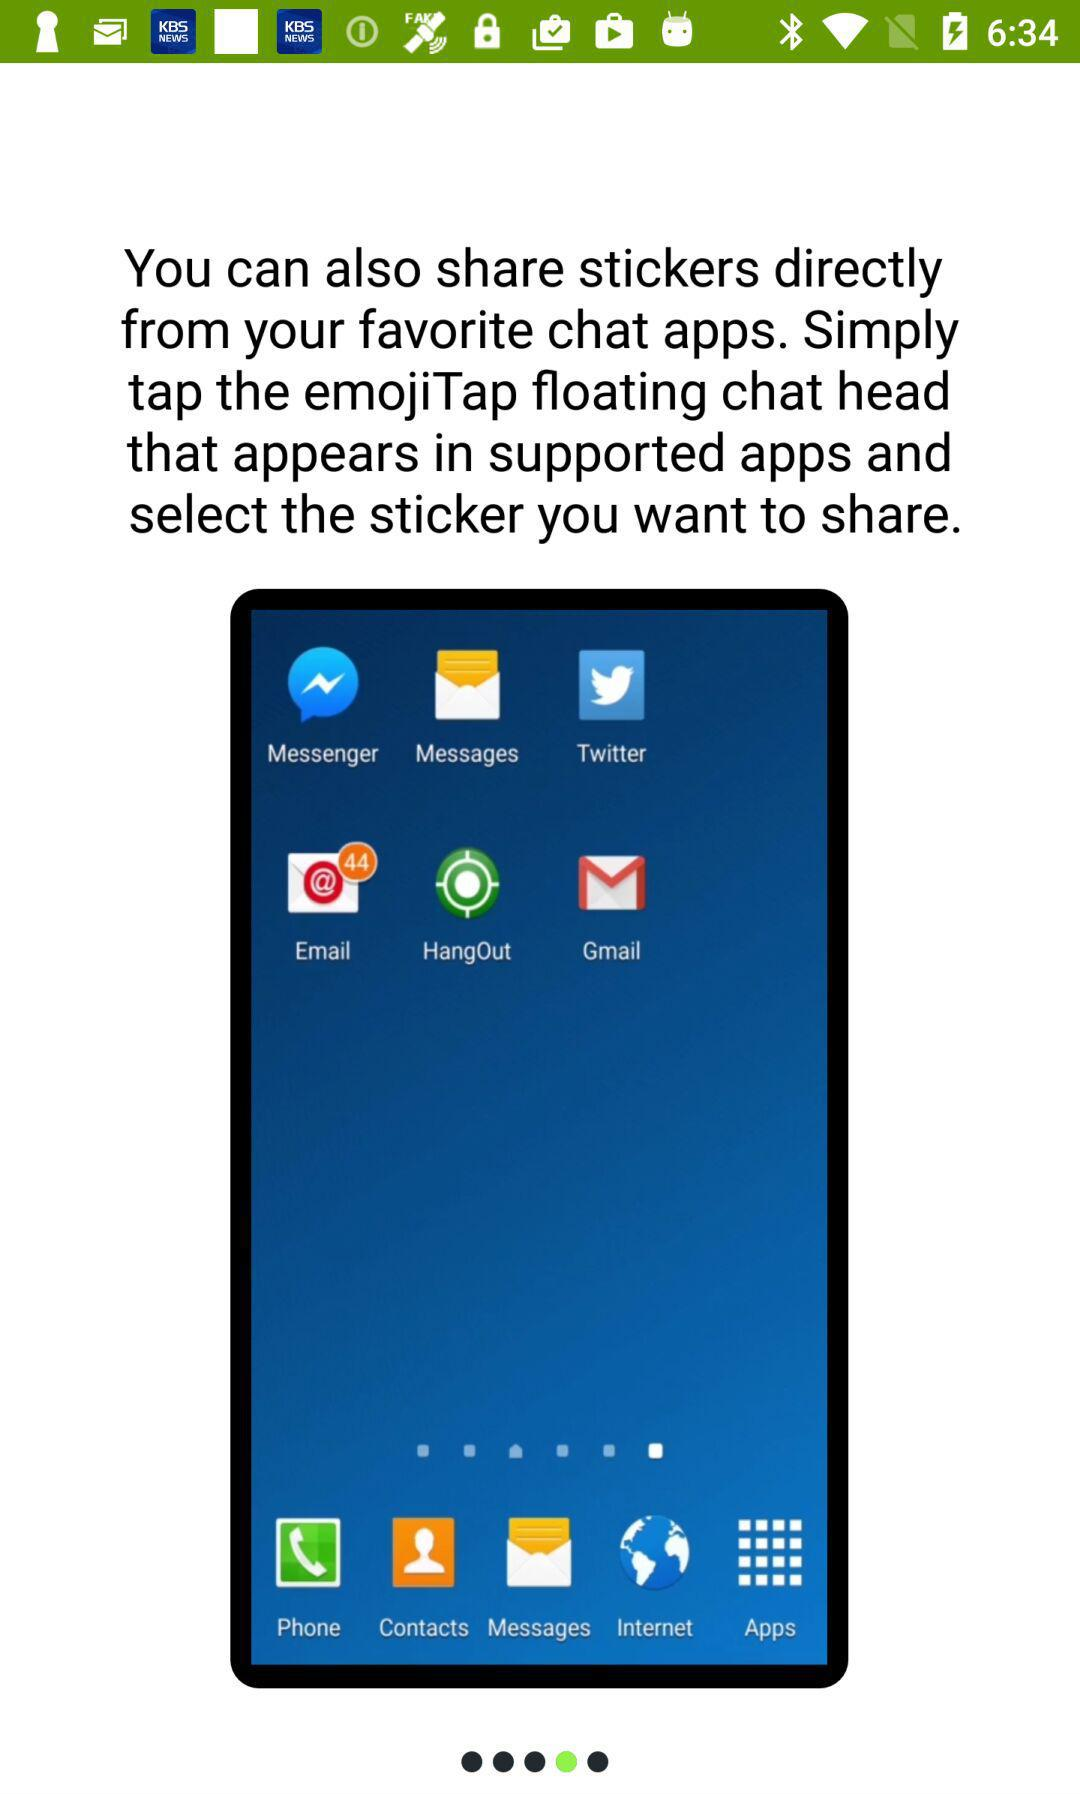Image: (228, 589, 849, 1690)
PageIndicator: (460, 1750, 610, 1773)
Text: (120, 246, 962, 546)
UpperTaskBar: (1, 1, 1080, 64)
